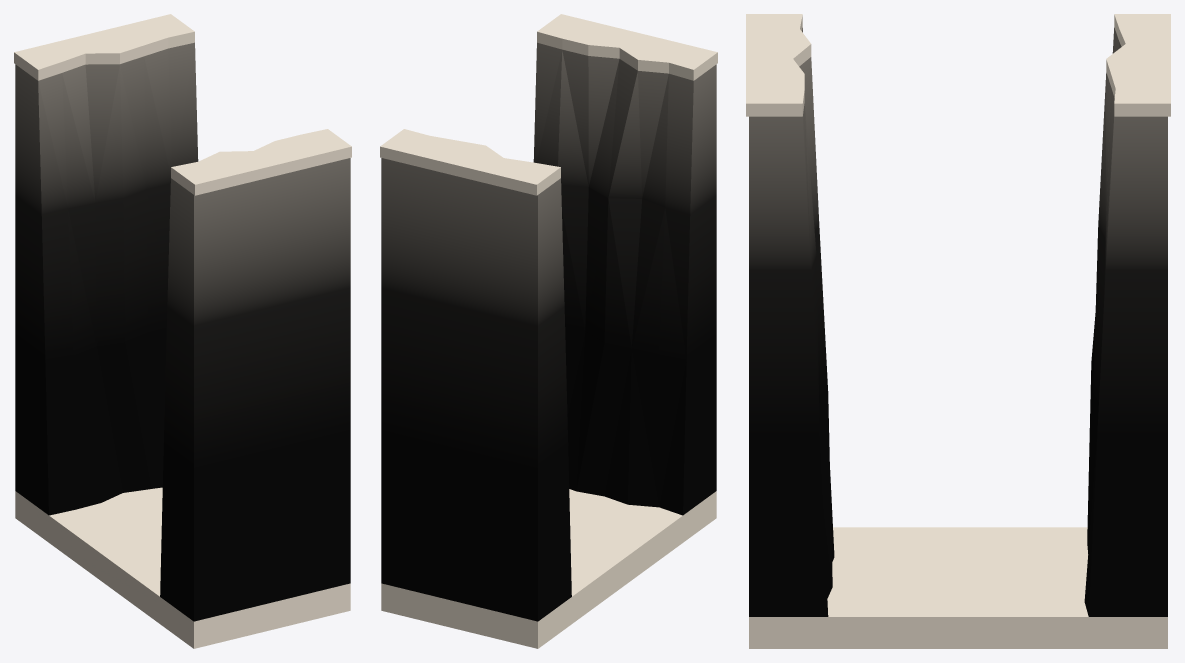
The model's file is SM_VKI_Pit_Chasm_150x300.fbx.
The picture shows the model from 3 angles, left to right: view 1: azimuth 30°, elevation 25°; view 2: azimuth 150°, elevation 25°; view 3: azimuth 270°, elevation 25°; orthographic projection. The views are drawn at different scales.
Visible parts, largest first — view 1: SM_VKI_Pit_Chasm_150x300.001; view 2: SM_VKI_Pit_Chasm_150x300.001; view 3: SM_VKI_Pit_Chasm_150x300.001.
Part boxes in pixels (left/top/right/bottom): SM_VKI_Pit_Chasm_150x300.001: left=14, top=14, right=351, bottom=648; SM_VKI_Pit_Chasm_150x300.001: left=380, top=14, right=717, bottom=648; SM_VKI_Pit_Chasm_150x300.001: left=746, top=14, right=1170, bottom=648.
Bounding box in the file's own units: 1.5 × 4.25 × 3.
